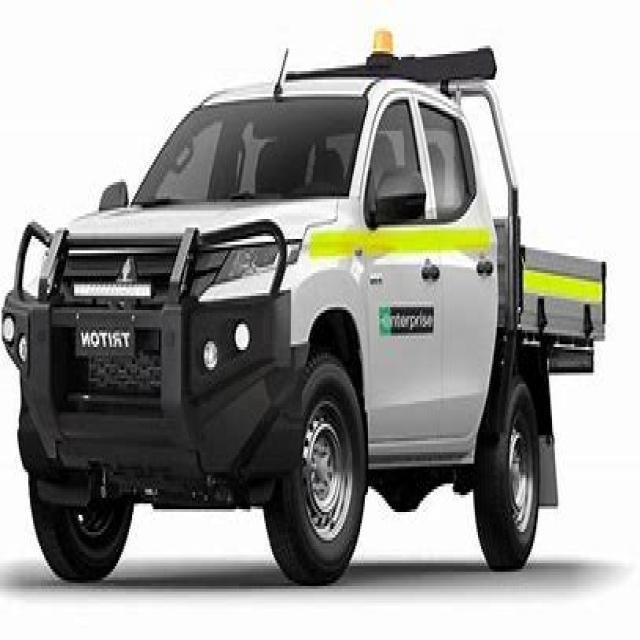light_vehicle: (3, 40, 618, 580)
